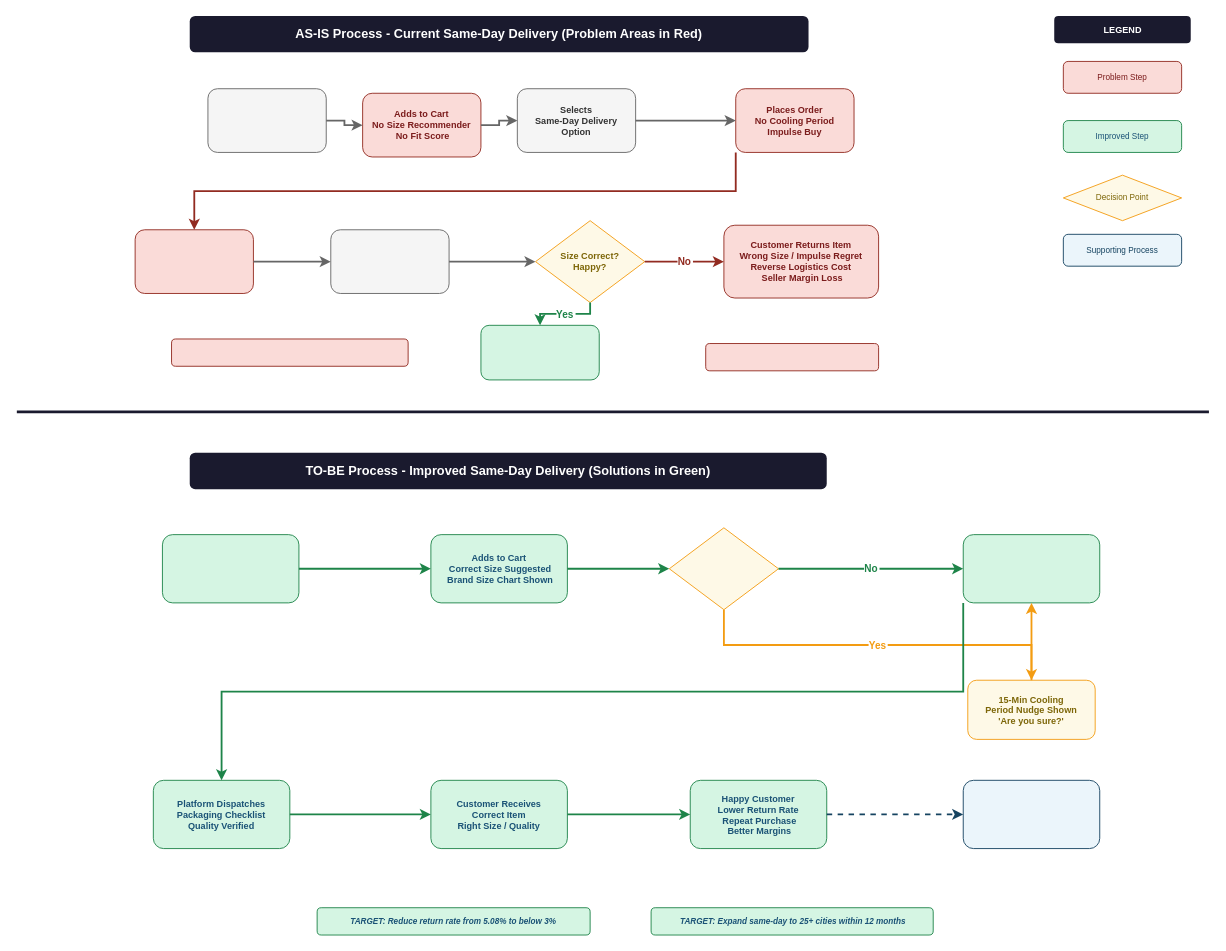
The diagram is 1226 pixels wide and 951 high, and some of its shapes have lost their labels. Each missing label, with the box of its shape:
Customer Browses Fashion Platform (Myntra / Ajio): (207, 88, 326, 152)
Customer Browses Size Recommender Active Fit Confidence Score Shown: (162, 534, 299, 603)
Customer Receives Item (2-4 hours): (330, 229, 449, 293)
Happy Customer Order Complete: (480, 324, 599, 380)
Order Value > ₹600?: (668, 527, 779, 610)
PAIN POINT: 5.08% return rate on standard delivery: (705, 343, 879, 371)
PAIN POINT: Myntra M-Now only 4 metros — low reach: (171, 338, 408, 366)
Places Order Deliberate Purchase Return Risk Flagged: (962, 534, 1100, 603)
Platform Dispatches Rushed Packing No Quality Check: (134, 229, 253, 293)
Seller Scorecard Return Rate Visible Improvement Tips: (962, 779, 1100, 849)
